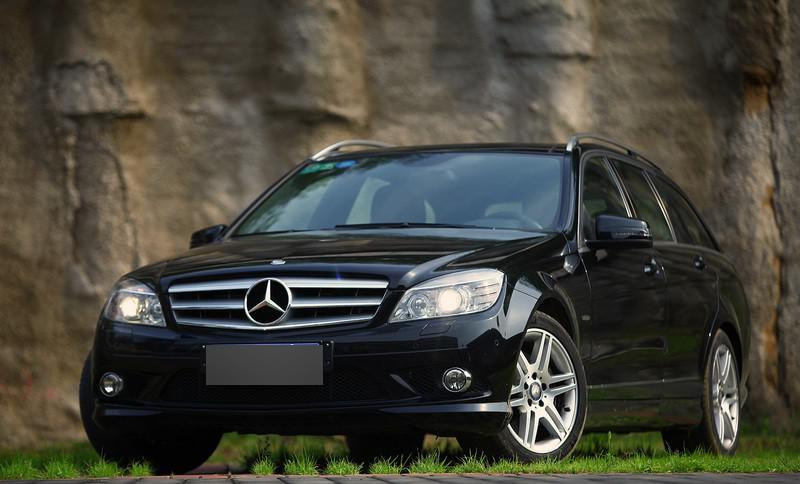Wagon: (78, 133, 753, 478)
